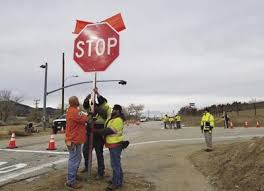stop: (72, 23, 121, 71)
